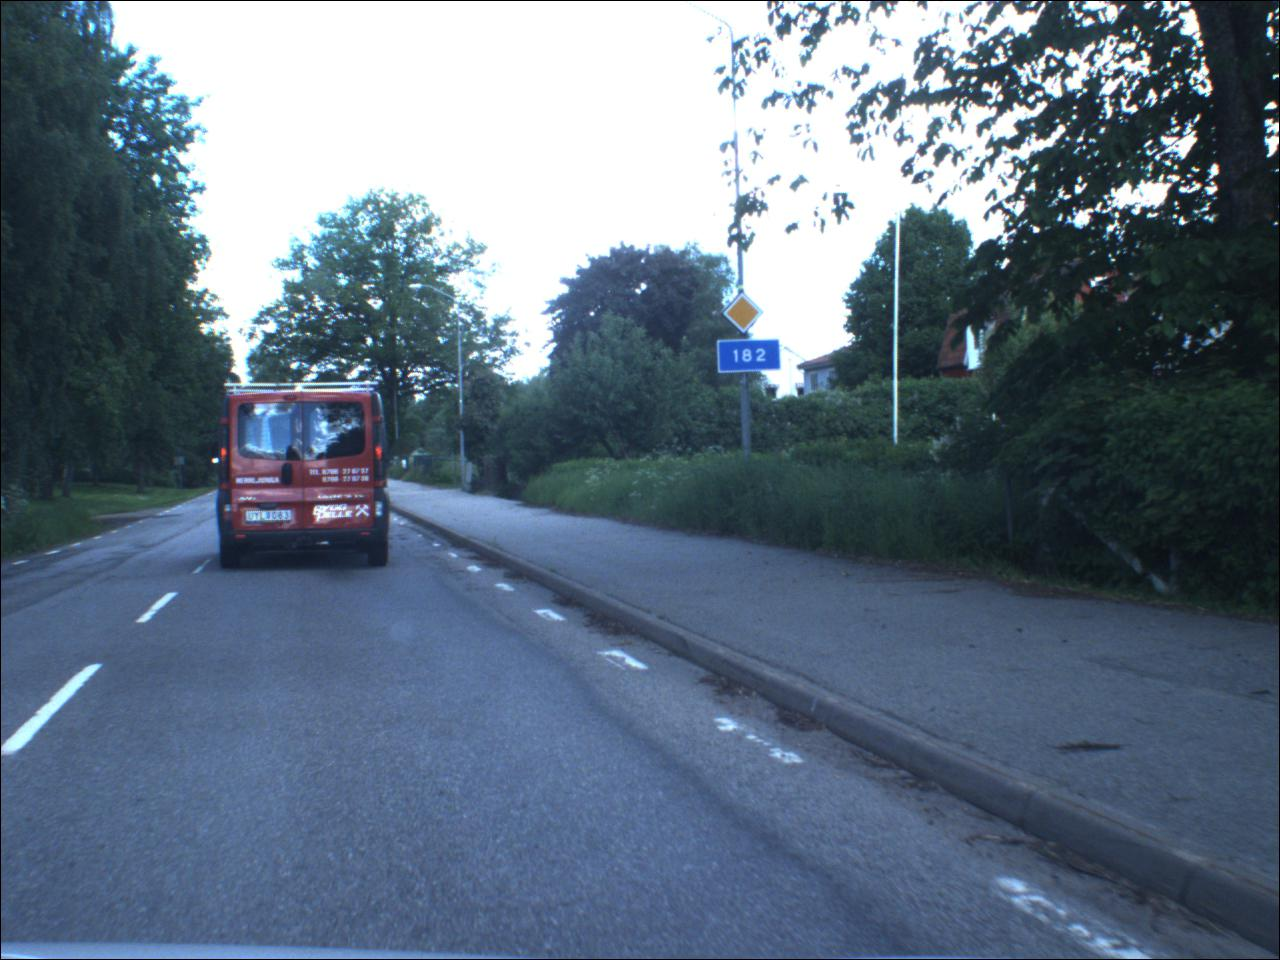PRIORITY_ROAD: (722, 293, 767, 337)
